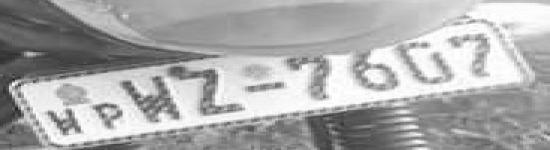-: (242, 79, 288, 95)
0: (390, 40, 454, 85)
6: (348, 48, 399, 96)
7: (282, 54, 337, 103), (448, 31, 501, 80)
P: (88, 101, 128, 130)
W: (119, 74, 180, 123), (43, 104, 86, 138)
Z: (174, 67, 240, 115)
